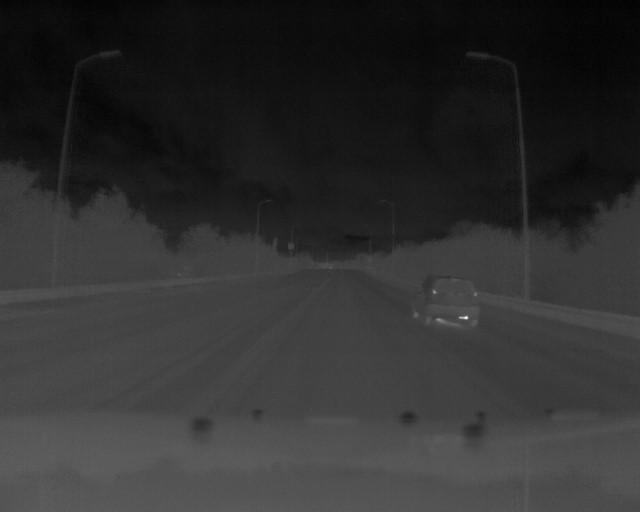car: (407, 271, 483, 328)
